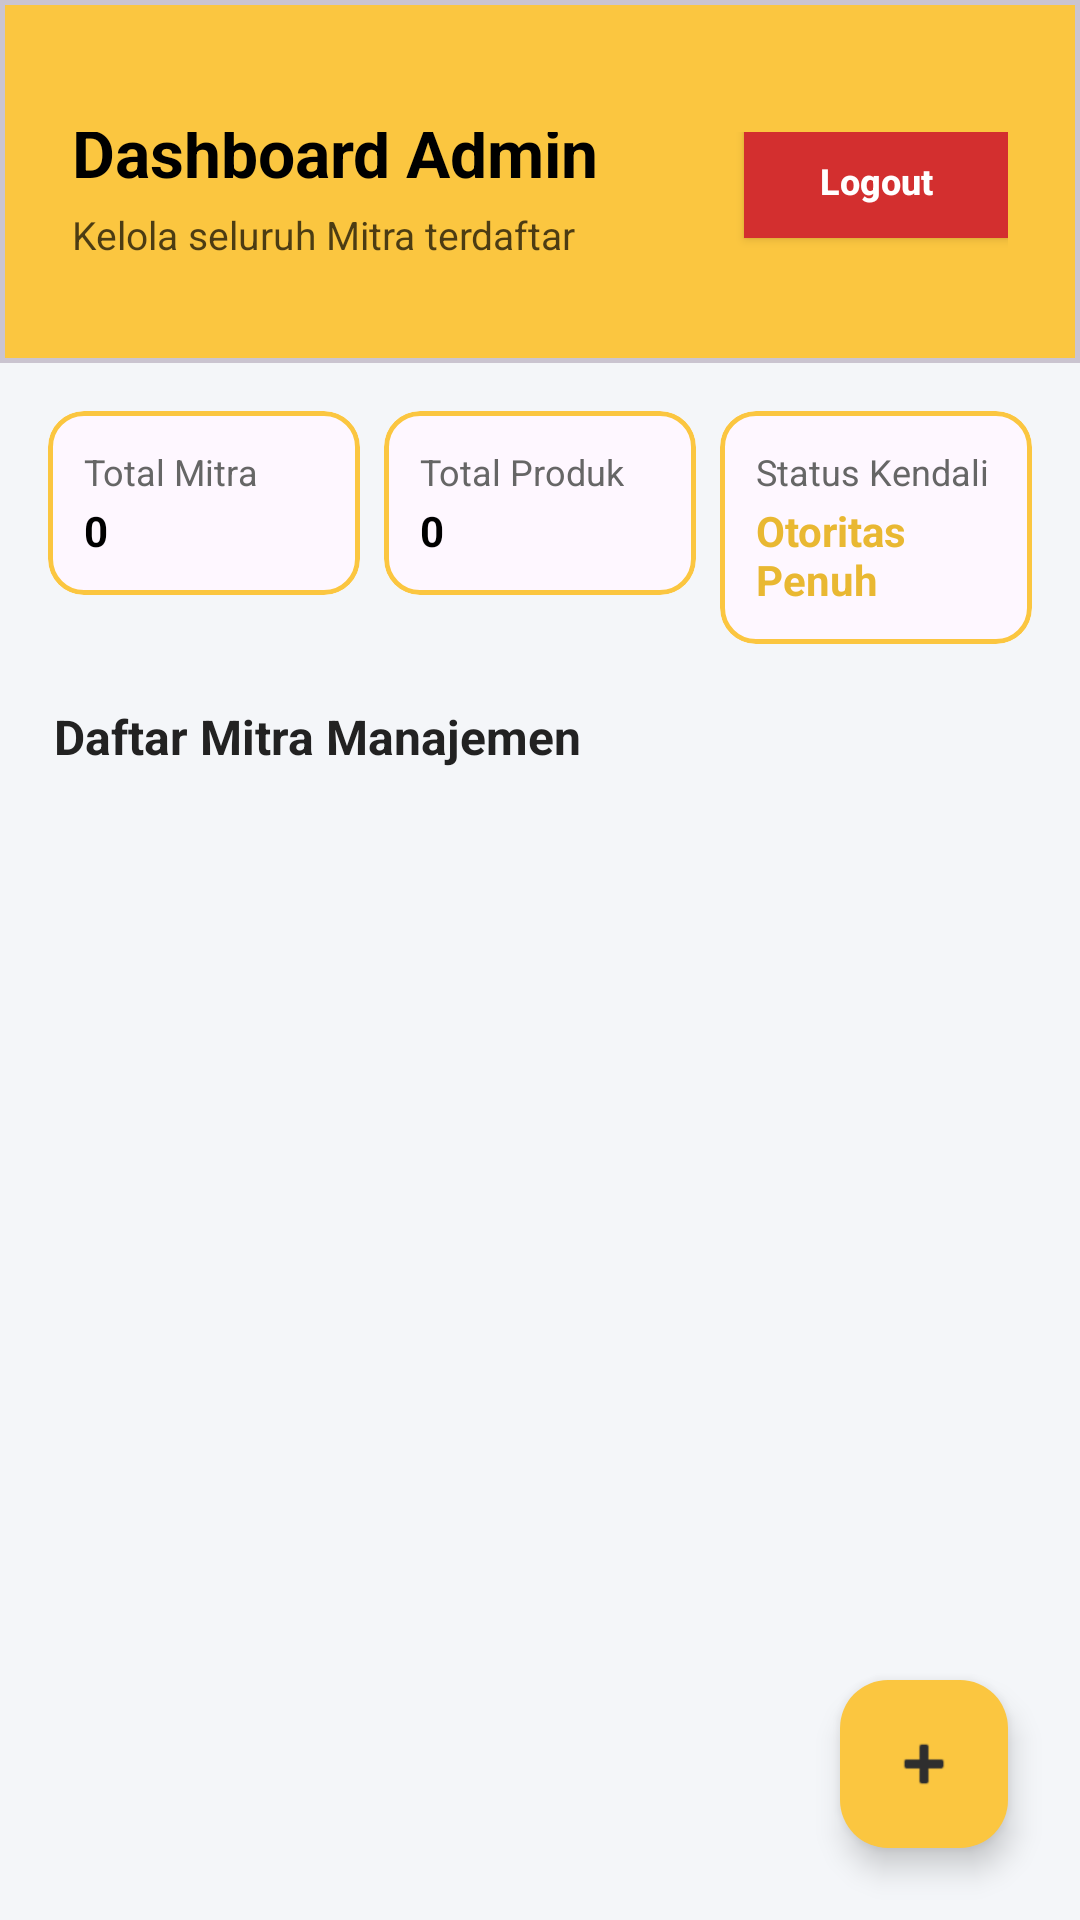

Icons on this 1080px x 1920px Android screen, each with the point to tap as point (x, y):
Tambah Mitra: point (924, 1764)
